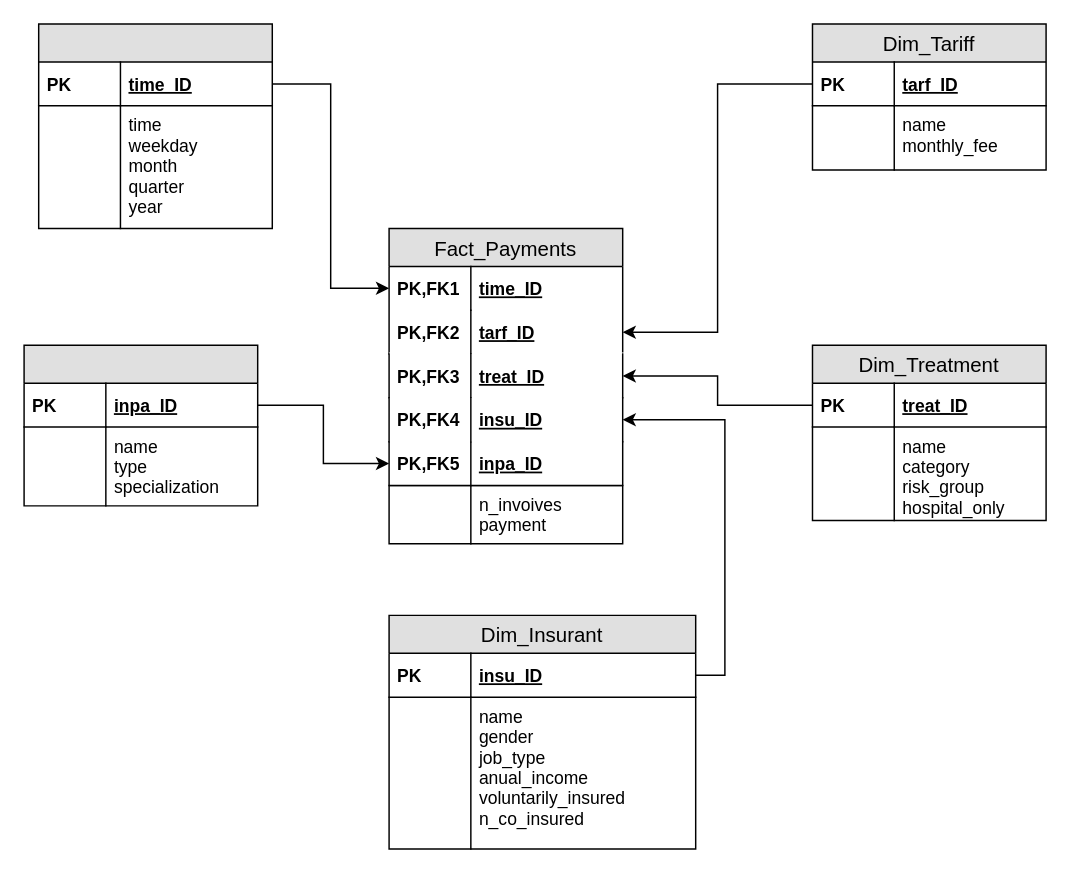
Some shapes in this 1070 by 873 pixel diagram are drawn without their labels. Each missing label, with the box of its shape:
Dim_Invoicing_Party: (23, 344, 258, 506)
Dim_Time: (37, 23, 272, 228)
